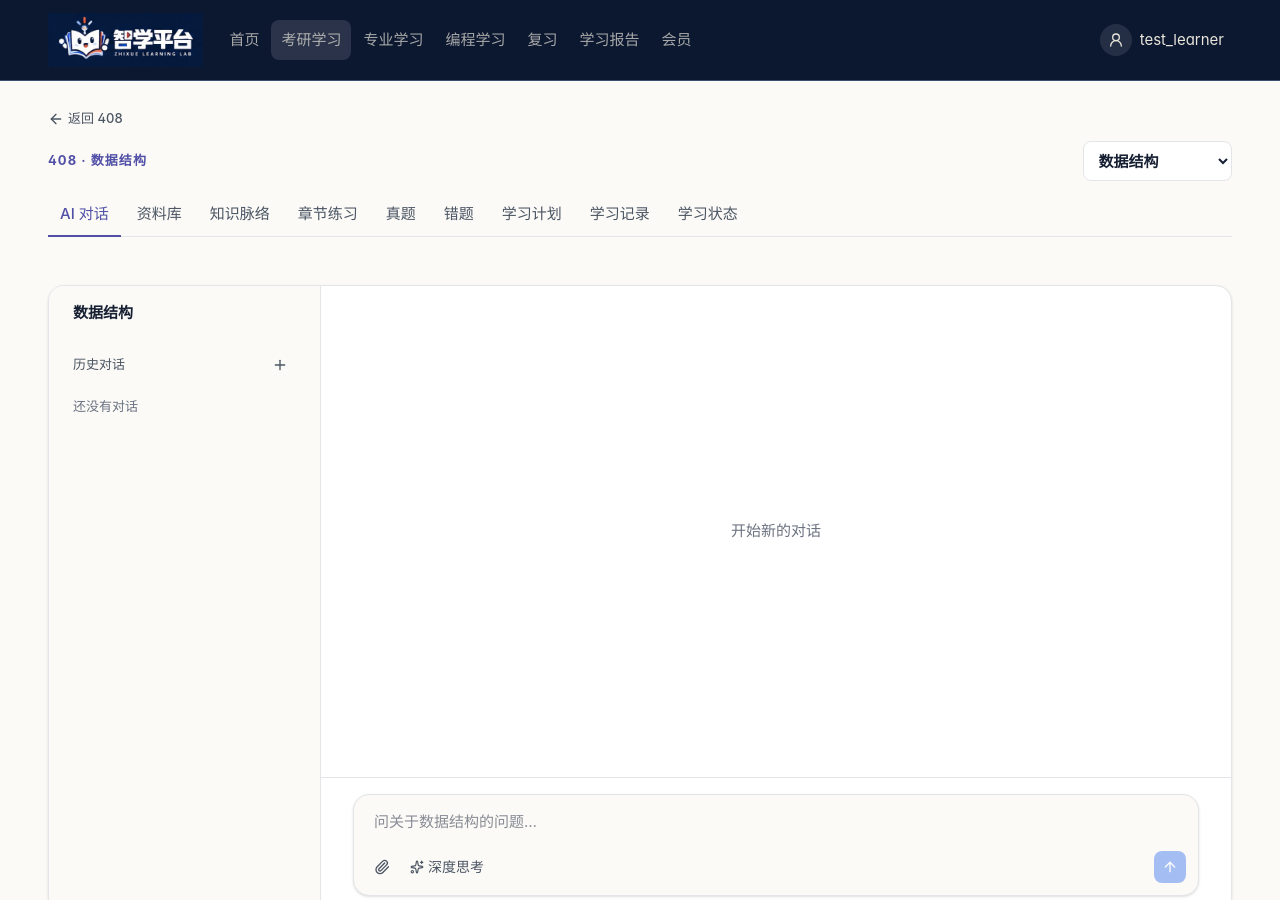
Test: the module switcher moves between the four papers without leaving the tool › stays in AI 对话 while changing paper, and the paper is what the scope changes
Expected: the link "AI 对话" is shown, 48,193 -> 121,237
Expected: the text box with placeholder "问关于数据结构的问题…" is shown, 362,803 -> 1190,851
Select "操作系统" in the dropdown named "切换 408 学习科目": (1158, 161) 1083,141 -> 1232,181
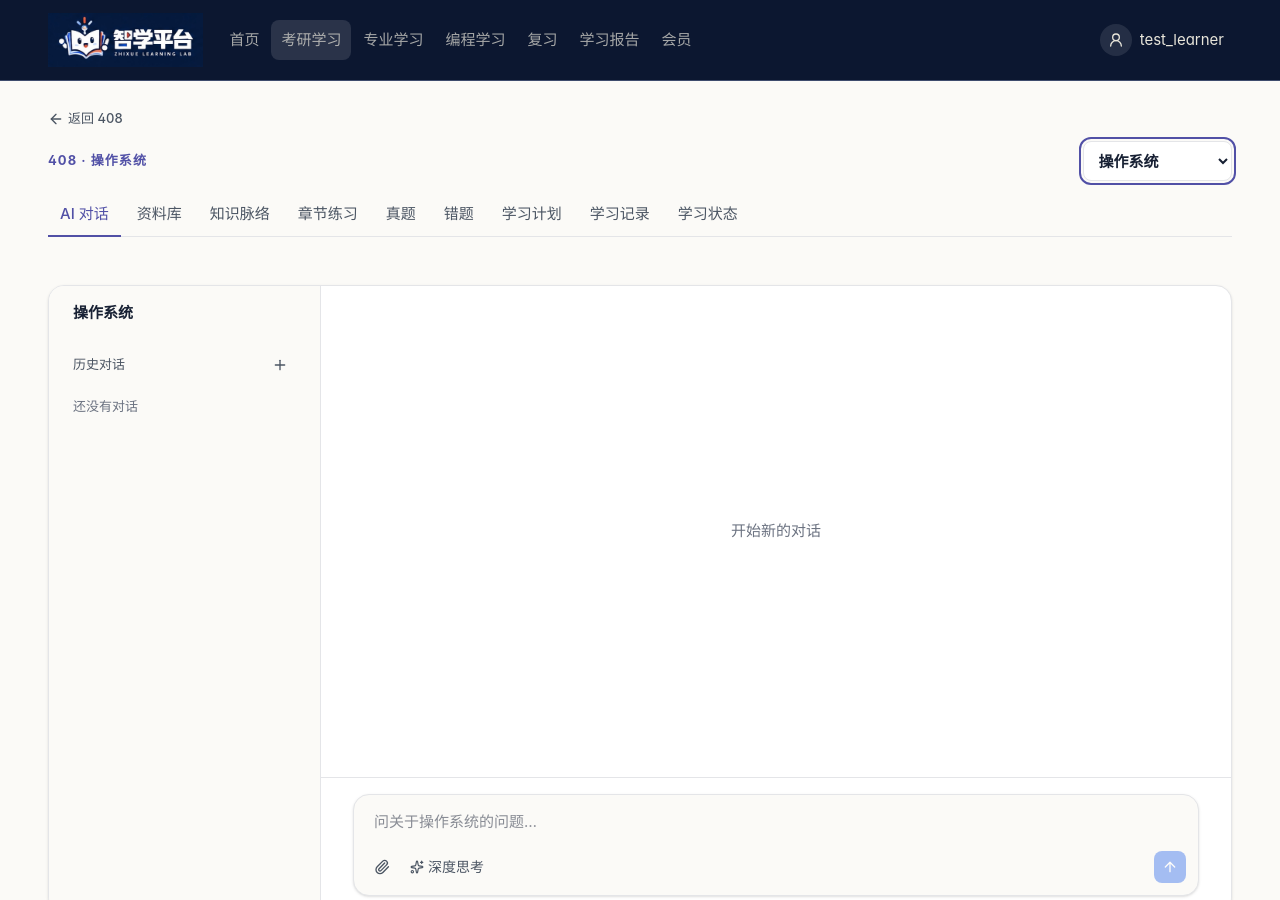
Expected: the text box with placeholder "问关于操作系统的问题…" is shown, 362,803 -> 1190,851
